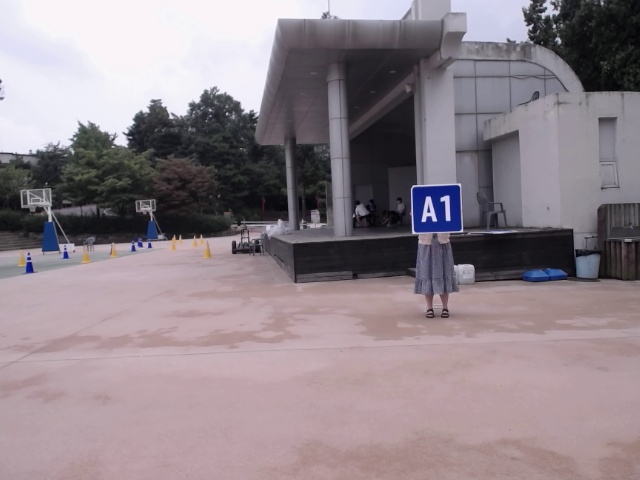delivery_a1: (412, 184, 462, 234)
